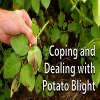Potato leaf early blight: (3, 50, 23, 79), (10, 32, 30, 56), (20, 62, 36, 91), (27, 47, 43, 74)
Potato leaf late blight: (10, 72, 20, 99)
